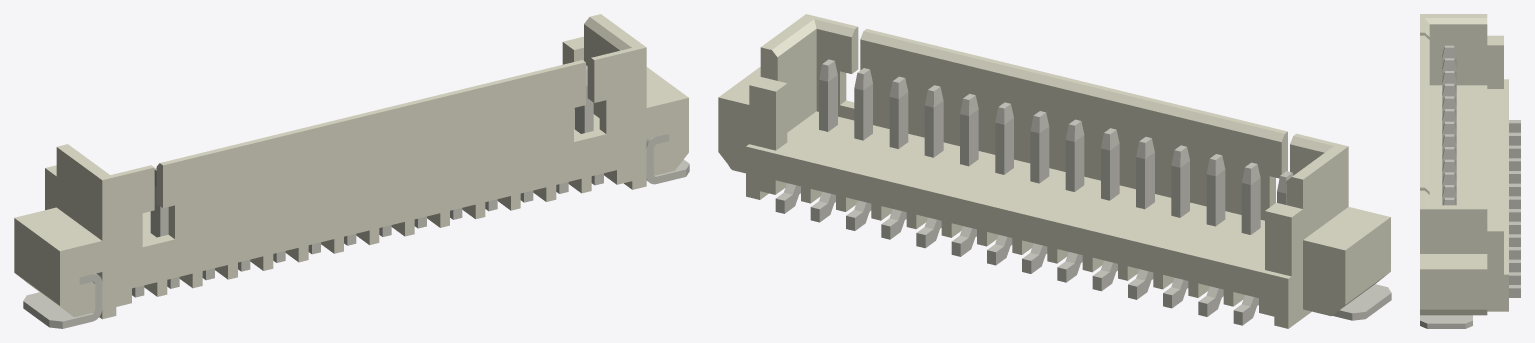
File: kc-molex_picoblade_53398-1471_1x14-1mp_p1.25mm_vertical.glb
The picture shows the model from 3 angles, left to right: view 1: azimuth 30°, elevation 25°; view 2: azimuth 150°, elevation 25°; view 3: azimuth 270°, elevation 25°; orthographic projection. The views are drawn at different scales.
Visible parts, largest first — view 1: 0.75_0.75_0.5833333333333334_0, 0.6666666666666666_0.6666666666666666_0.5833333333333334_0.8; view 2: 0.75_0.75_0.5833333333333334_0, 0.6666666666666666_0.6666666666666666_0.5833333333333334_0.8; view 3: 0.75_0.75_0.5833333333333334_0, 0.6666666666666666_0.6666666666666666_0.5833333333333334_0.8.
Part boxes in pixels (x1=…): 0.75_0.75_0.5833333333333334_0: x1=14, y1=14, x2=688, y2=319; 0.6666666666666666_0.6666666666666666_0.5833333333333334_0.8: x1=23, y1=65, x2=689, y2=328; 0.75_0.75_0.5833333333333334_0: x1=718, y1=14, x2=1390, y2=328; 0.6666666666666666_0.6666666666666666_0.5833333333333334_0.8: x1=728, y1=59, x2=1391, y2=325; 0.75_0.75_0.5833333333333334_0: x1=1420, y1=14, x2=1508, y2=315; 0.6666666666666666_0.6666666666666666_0.5833333333333334_0.8: x1=1420, y1=45, x2=1520, y2=328.
Bounding box in the file's own units: 2.27 × 0.4699 × 0.42.
